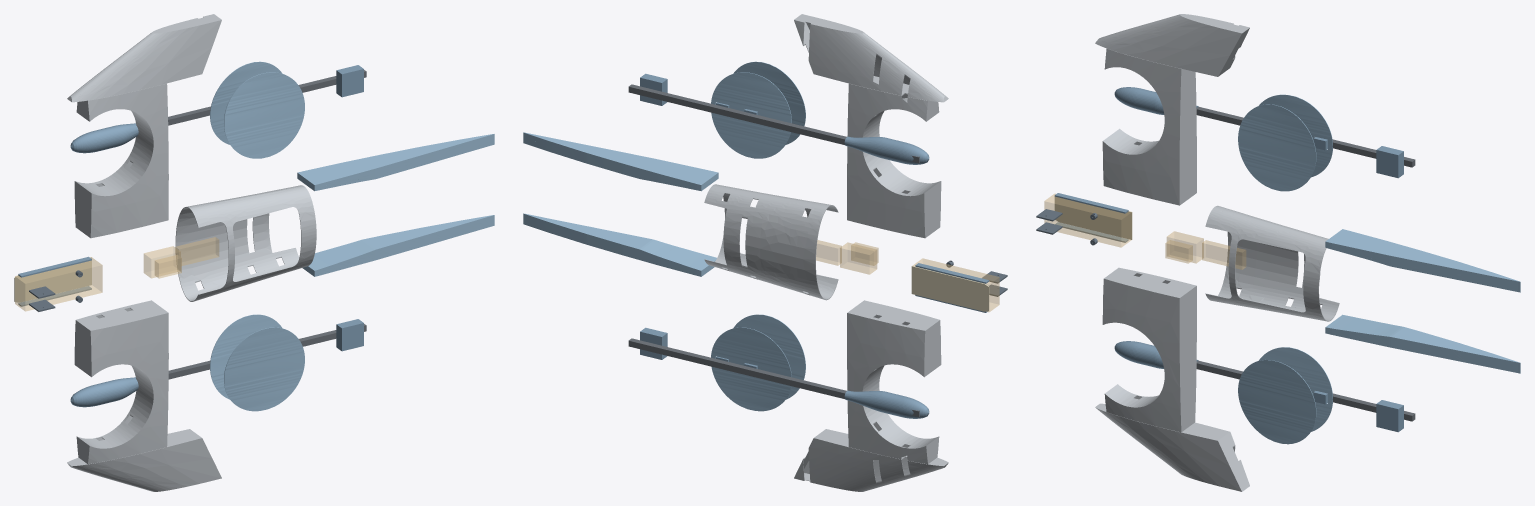
The model's file is v19c_forward_rotors.glb.
3 renders of one model, left to right at view 1: azimuth 30°, elevation 25°; view 2: azimuth 150°, elevation 25°; view 3: azimuth 330°, elevation 25°, orthographic.
Parts seen in each view (by area): view 1: F3_hollow_body, WLB_hollow_wing, WRB_hollow_wing, WRE1_falcon_wing, NEW_front_well_cap_upper_R, NEW_front_well_cap_upper_L, WLE1_falcon_wing, NEW_F5_root_fairing_R, NEW_F5_root_fairing_L, KEEP_OUT_BATTERY_NOSE_BAY_140x48x33, NEW_front_well_cap_lower_L, NEW_G10_nose_battery_floor (+12 smaller); view 2: WLB_hollow_wing, F3_hollow_body, WRB_hollow_wing, WRE1_falcon_wing, WLE1_falcon_wing, NEW_front_well_cap_lower_R, NEW_front_well_cap_lower_L, NEW_F5_root_fairing_R, NEW_F5_root_fairing_L, NEW_G10_nose_battery_floor, NEW_CF_rotor_boom_L_10x10x526, NEW_CF_rotor_boom_R_10x10x526 (+10 smaller); view 3: WLB_hollow_wing, F3_hollow_body, WRB_hollow_wing, WRE1_falcon_wing, NEW_front_well_cap_upper_R, WLE1_falcon_wing, NEW_front_well_cap_upper_L, NEW_F5_root_fairing_R, NEW_F5_root_fairing_L, KEEP_OUT_BATTERY_NOSE_BAY_140x48x33, NEW_G10_nose_battery_floor, NEW_front_well_cap_lower_L (+12 smaller).
Part boxes in pixels (x1=…): F3_hollow_body: x1=175, y1=185, x2=316, y2=301; WLB_hollow_wing: x1=74, y1=300, x2=168, y2=464; WRB_hollow_wing: x1=74, y1=83, x2=168, y2=238; WRE1_falcon_wing: x1=67, y1=14, x2=221, y2=102; NEW_front_well_cap_upper_R: x1=224, y1=72, x2=304, y2=158; NEW_front_well_cap_upper_L: x1=224, y1=327, x2=304, y2=411; WLE1_falcon_wing: x1=67, y1=429, x2=221, y2=491; NEW_F5_root_fairing_R: x1=297, y1=134, x2=494, y2=191; NEW_F5_root_fairing_L: x1=302, y1=215, x2=494, y2=276; KEEP_OUT_BATTERY_NOSE_BAY_140x48x33: x1=15, y1=257, x2=102, y2=311; NEW_front_well_cap_lower_L: x1=210, y1=314, x2=282, y2=399; NEW_G10_nose_battery_floor: x1=14, y1=257, x2=91, y2=302; WLB_hollow_wing: x1=847, y1=300, x2=941, y2=464; F3_hollow_body: x1=704, y1=184, x2=838, y2=300; WRB_hollow_wing: x1=847, y1=83, x2=941, y2=238; WRE1_falcon_wing: x1=794, y1=14, x2=948, y2=102; WLE1_falcon_wing: x1=794, y1=429, x2=948, y2=491; NEW_front_well_cap_lower_R: x1=711, y1=72, x2=791, y2=158; NEW_front_well_cap_lower_L: x1=711, y1=327, x2=791, y2=411; NEW_F5_root_fairing_R: x1=523, y1=132, x2=718, y2=191; NEW_F5_root_fairing_L: x1=523, y1=213, x2=716, y2=276; NEW_G10_nose_battery_floor: x1=911, y1=266, x2=989, y2=311; NEW_CF_rotor_boom_L_10x10x526: x1=628, y1=338, x2=919, y2=417; NEW_CF_rotor_boom_R_10x10x526: x1=628, y1=84, x2=919, y2=163; WLB_hollow_wing: x1=1102, y1=267, x2=1196, y2=432; F3_hollow_body: x1=1205, y1=205, x2=1339, y2=321; WRB_hollow_wing: x1=1102, y1=48, x2=1196, y2=205; WRE1_falcon_wing: x1=1095, y1=14, x2=1249, y2=76; NEW_front_well_cap_upper_R: x1=1238, y1=104, x2=1316, y2=191; WLE1_falcon_wing: x1=1095, y1=403, x2=1249, y2=491; NEW_front_well_cap_upper_L: x1=1238, y1=359, x2=1316, y2=444; NEW_F5_root_fairing_R: x1=1325, y1=229, x2=1520, y2=292; NEW_F5_root_fairing_L: x1=1325, y1=314, x2=1520, y2=373; KEEP_OUT_BATTERY_NOSE_BAY_140x48x33: x1=1044, y1=193, x2=1131, y2=247; NEW_G10_nose_battery_floor: x1=1054, y1=196, x2=1132, y2=239; NEW_front_well_cap_lower_L: x1=1259, y1=347, x2=1332, y2=431.
Bounding box in the file's own units: 857 × 794 × 87.96.
